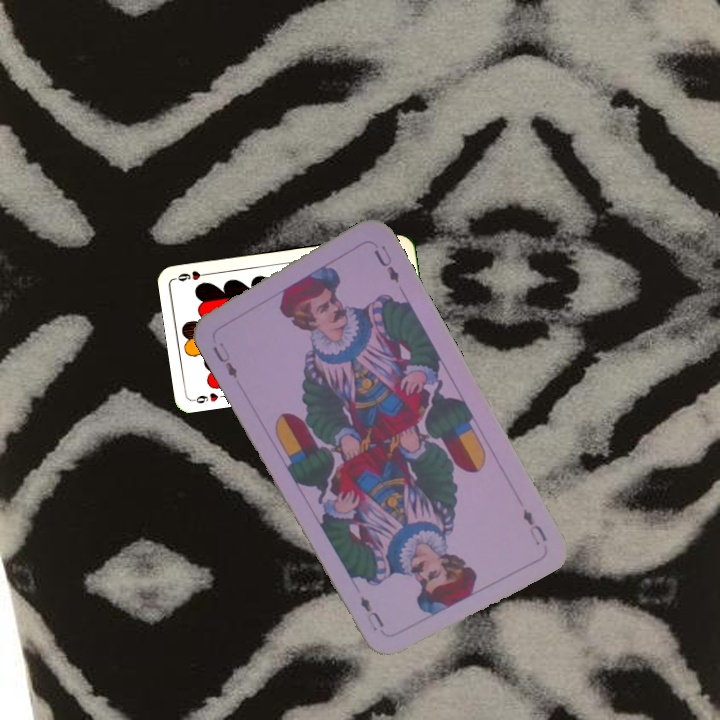EU: (208, 338, 240, 381), (518, 505, 550, 548)
H9: (189, 389, 221, 406)
